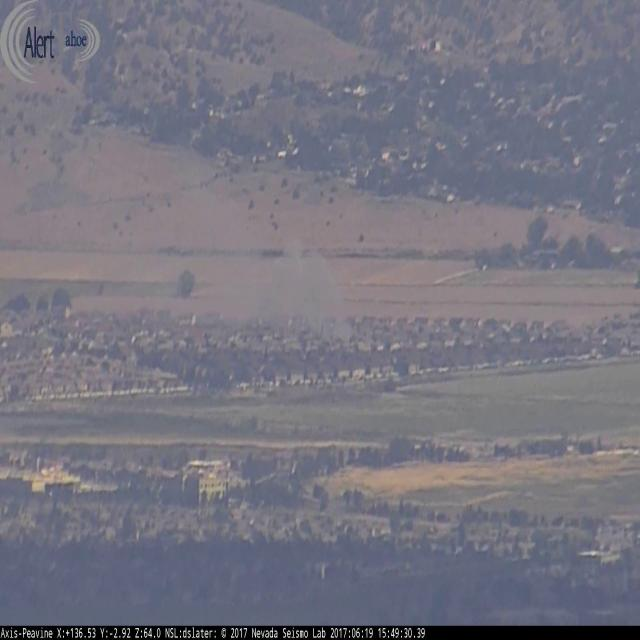smoke: (230, 205, 364, 362)
